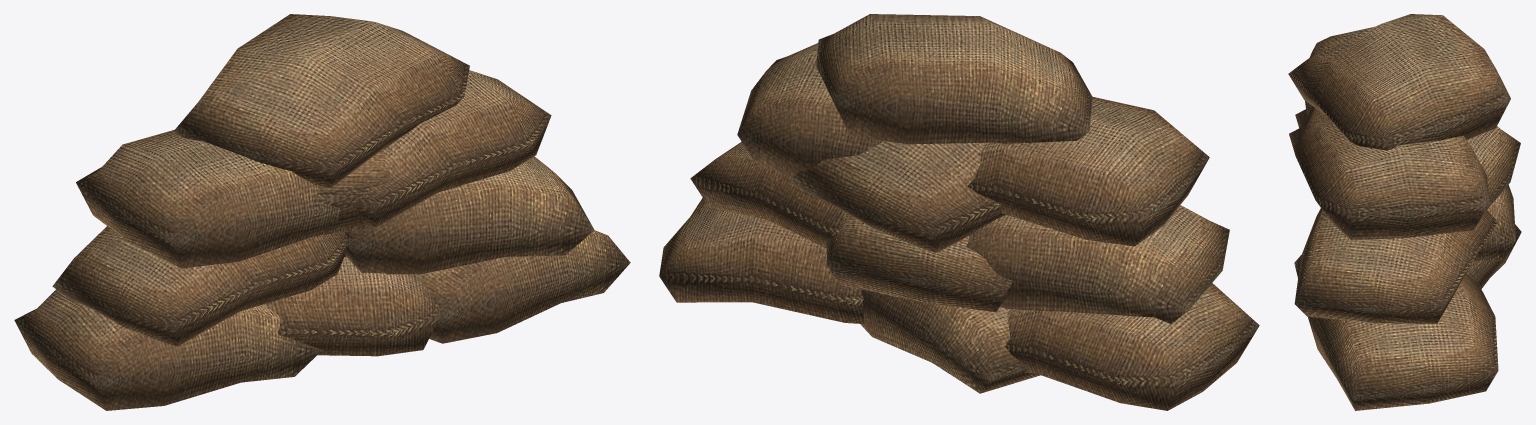
The model's file is FPS_yanti_madai_01.FBX.
3 renders of one model, left to right at view 1: azimuth 30°, elevation 25°; view 2: azimuth 150°, elevation 25°; view 3: azimuth 270°, elevation 25°, orthographic. The views are drawn at different scales.
Parts seen in each view (by area): view 1: Box020; view 2: Box020; view 3: Box020.
Part boxes in pixels (x1,y1,x2,y2): Box020: (14,14,630,410); Box020: (659,14,1259,410); Box020: (1288,14,1521,410).
Bounding box in the file's own units: 235 × 120 × 96.2.
